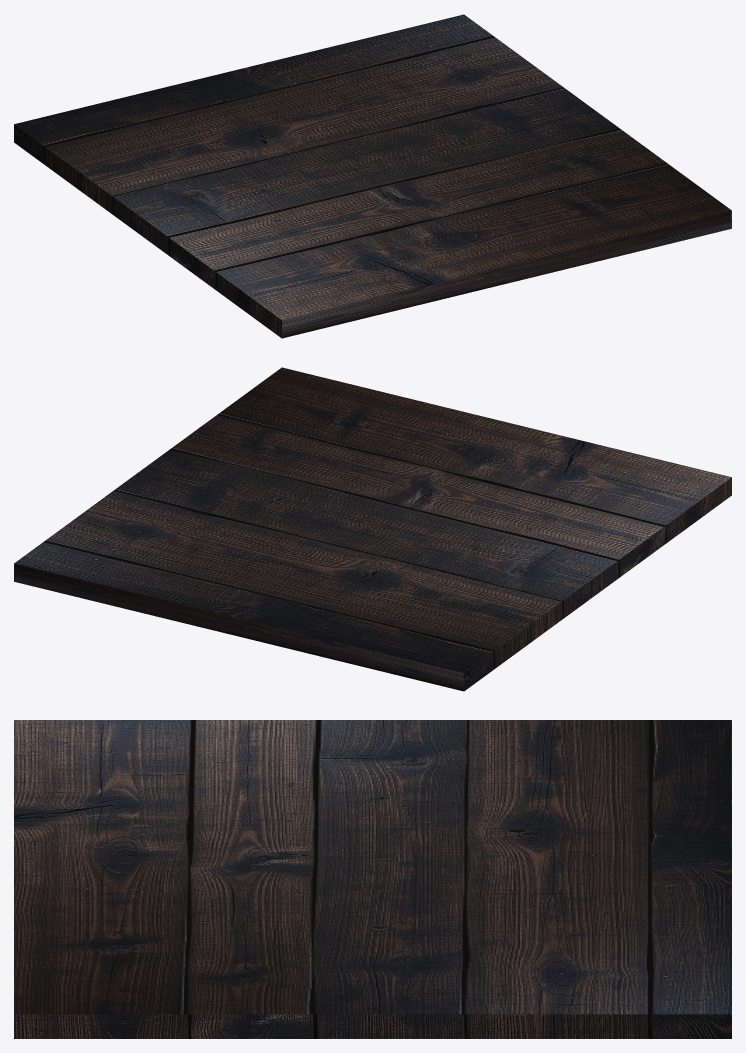
The model's file is Tabletoped.glb.
3 renders of one model, top to bottom at view 1: azimuth 30°, elevation 25°; view 2: azimuth 150°, elevation 25°; view 3: azimuth 270°, elevation 25°, orthographic. The views are drawn at different scales.
Size of the model in its own units: 6.05 by 0.2342 by 6.24.
Materials: 1 (1 with a texture image).
